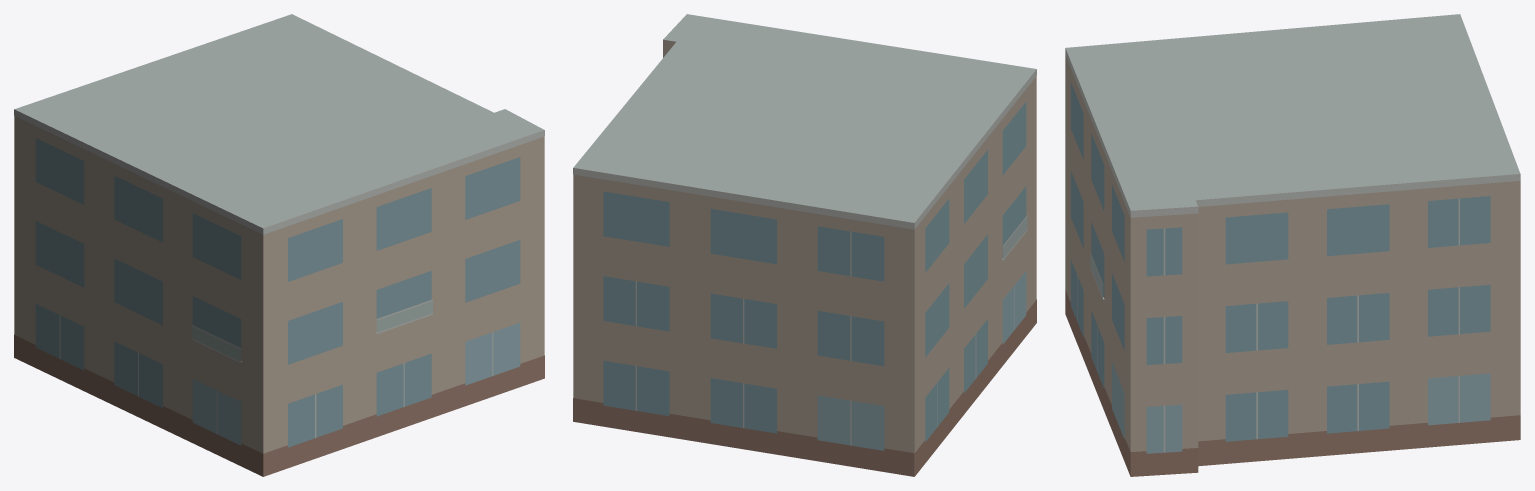
Rendered from survey-upis-32715407.glb.
3 views of the same model, side by side, from view 1: azimuth 30°, elevation 25°; view 2: azimuth 150°, elevation 25°; view 3: azimuth 270°, elevation 25° (orthographic). The views are drawn at different scales.
Visible parts, largest first — view 1: survey-upis-32715407.tmp; view 2: survey-upis-32715407.tmp; view 3: survey-upis-32715407.tmp.
Boxes of the visible parts, x1,y1,x2,y2 form: survey-upis-32715407.tmp: [14, 14, 544, 476]; survey-upis-32715407.tmp: [573, 14, 1036, 476]; survey-upis-32715407.tmp: [1065, 14, 1520, 476].
Bounding box in the file's own units: 14.92 × 9.4 × 14.59.
